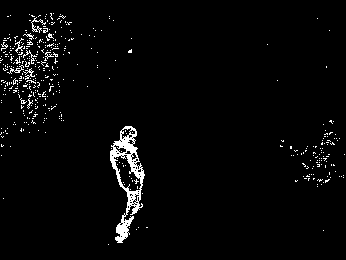person: (108, 123, 148, 244)
